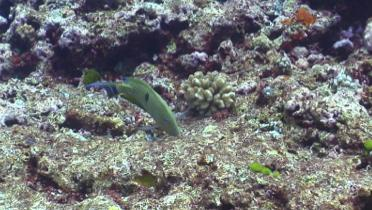Acanthuridae -Surgeonfishes-: (83, 70, 193, 148)
